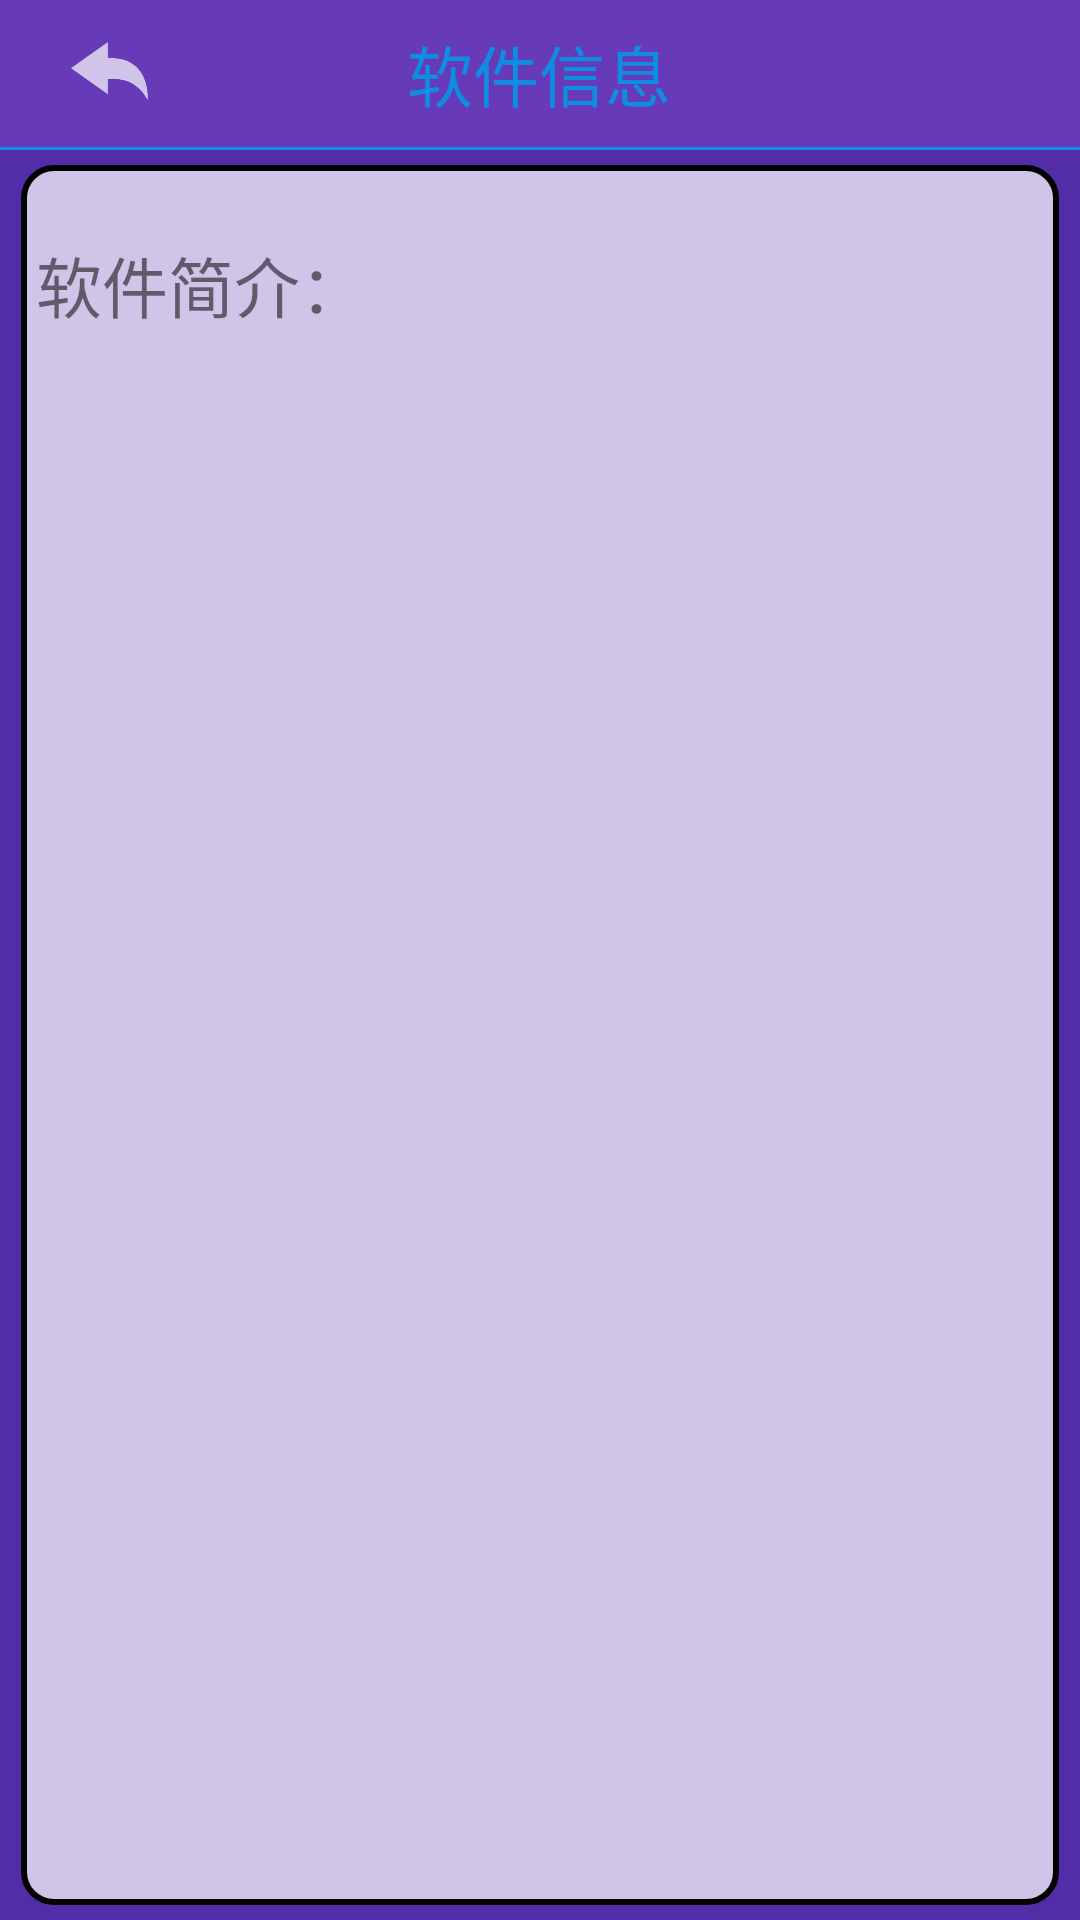

Icons on this 1080×1920 Android screen, each with the point to tap as point (x, y):
fanhui: point (109, 71)
